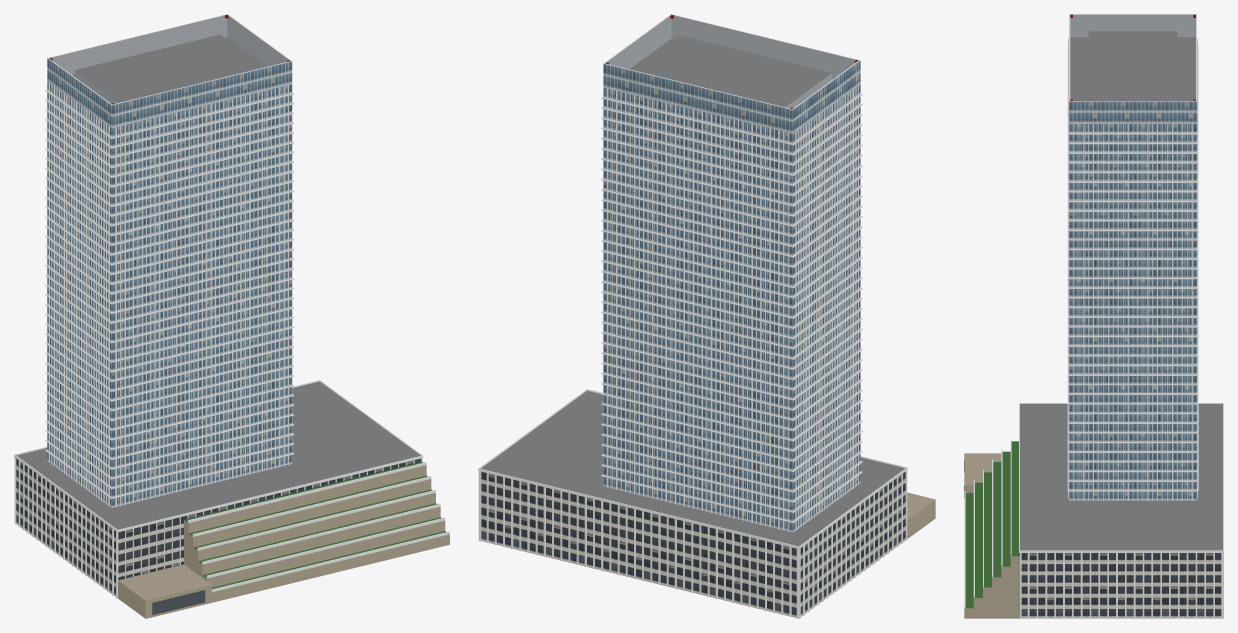
File: tokyo_port_city_takeshiba.glb
The picture shows the model from 3 angles, left to right: view 1: azimuth 30°, elevation 25°; view 2: azimuth 150°, elevation 25°; view 3: azimuth 270°, elevation 25°; orthographic projection. The views are drawn at different scales.
Visible parts, largest first — view 1: tokyo_port_city_takeshiba; view 2: tokyo_port_city_takeshiba; view 3: tokyo_port_city_takeshiba.
Part boxes in pixels (bbox=[...]): tokyo_port_city_takeshiba: bbox=[14, 14, 449, 618]; tokyo_port_city_takeshiba: bbox=[478, 14, 935, 618]; tokyo_port_city_takeshiba: bbox=[964, 14, 1223, 618].
Bounding box in the file's own units: 141 × 208 × 105.
Materials: 3 (3 with a texture image).
